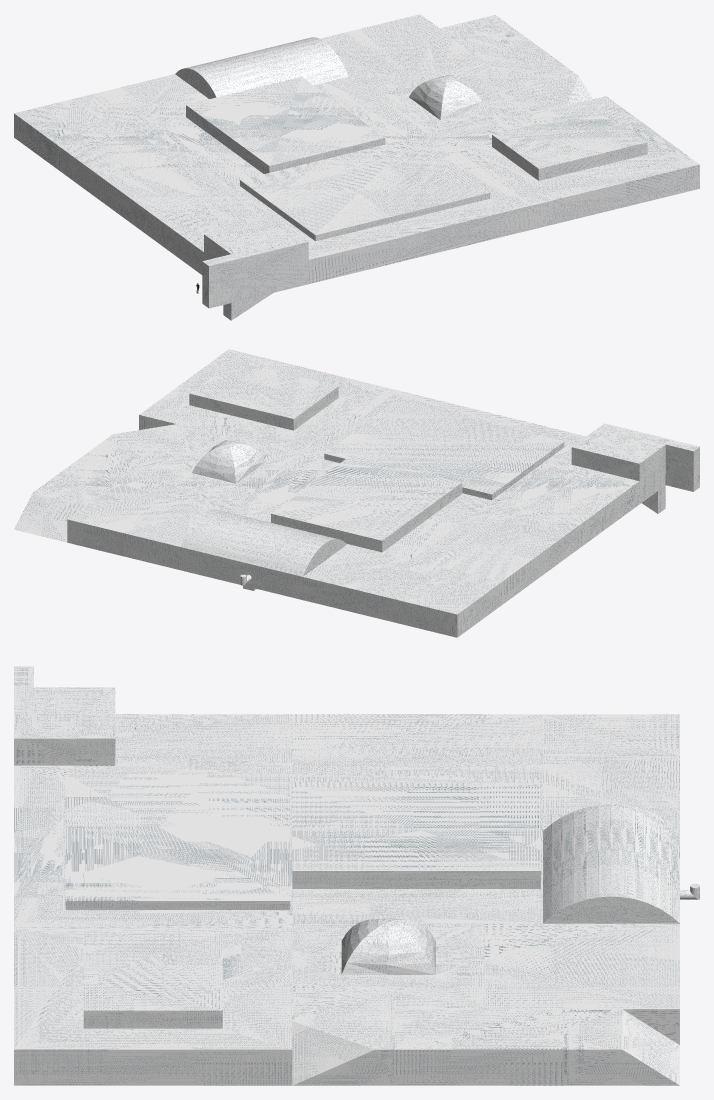
The model's file is Surrantons_Bane_1.fbx.
3 views of the same model, one above another, from view 1: azimuth 30°, elevation 25°; view 2: azimuth 150°, elevation 25°; view 3: azimuth 270°, elevation 25° (orthographic). The views are drawn at different scales.
Parts seen in each view (by area): view 1: Model; view 2: Model; view 3: Model.
Boxes of the visible parts, <box> form: Model: <box>14,14,699,320</box>; Model: <box>14,349,699,637</box>; Model: <box>14,666,699,1085</box>.
Bounding box in the file's own units: 84.8 × 12 × 69.
